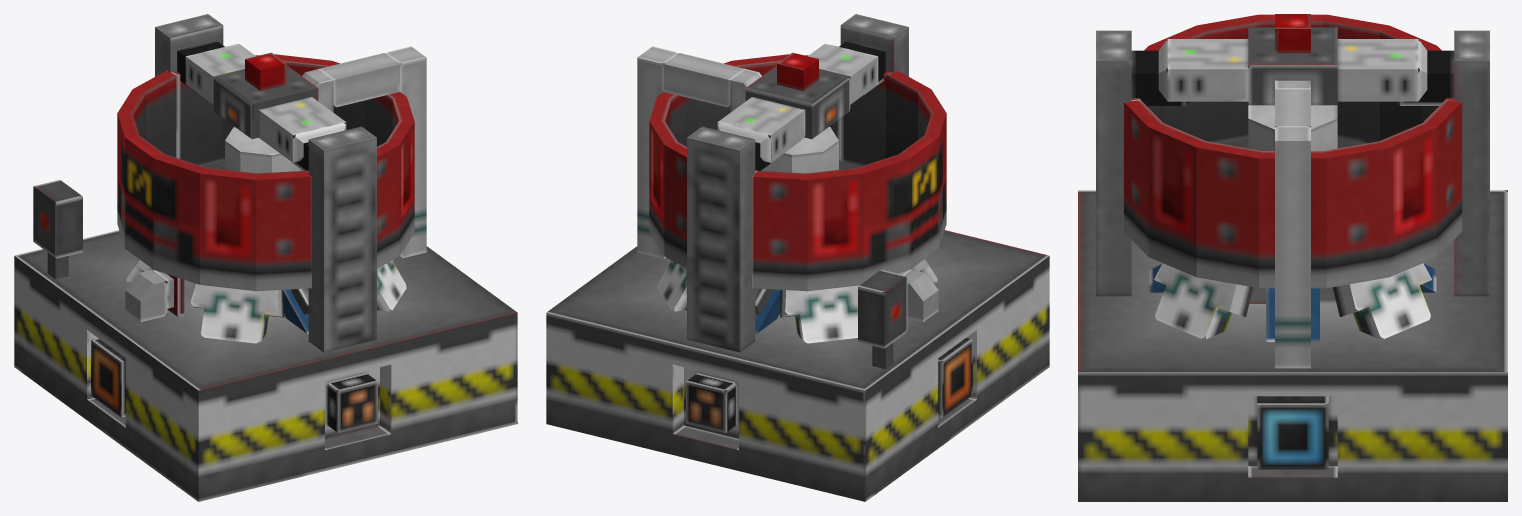
File: thickener.obj
The picture shows the model from 3 angles, left to right: view 1: azimuth 30°, elevation 25°; view 2: azimuth 150°, elevation 25°; view 3: azimuth 270°, elevation 25°; orthographic projection. The views are drawn at different scales.
Visible parts, largest first — view 1: cube.059_cube.base_cube.059, cube.001_cube, cube.023_cube.002, redstone_cube.003; view 2: cube.059_cube.base_cube.059, cube.001_cube, cube.023_cube.002, redstone_cube.003; view 3: cube.059_cube.base_cube.059, cube.001_cube, cube.023_cube.002.
Part boxes in pixels (x1,y1,x2,y2): cube.059_cube.base_cube.059: [14, 230, 517, 501]; cube.001_cube: [125, 14, 426, 352]; cube.023_cube.002: [117, 54, 414, 291]; redstone_cube.003: [33, 180, 82, 279]; cube.059_cube.base_cube.059: [546, 230, 1049, 501]; cube.001_cube: [637, 14, 938, 352]; cube.023_cube.002: [649, 54, 946, 291]; redstone_cube.003: [858, 269, 907, 369]; cube.059_cube.base_cube.059: [1078, 190, 1507, 501]; cube.001_cube: [1096, 14, 1489, 368]; cube.023_cube.002: [1123, 14, 1462, 288].
Bounding box in the file's own units: 3 × 3 × 3.
